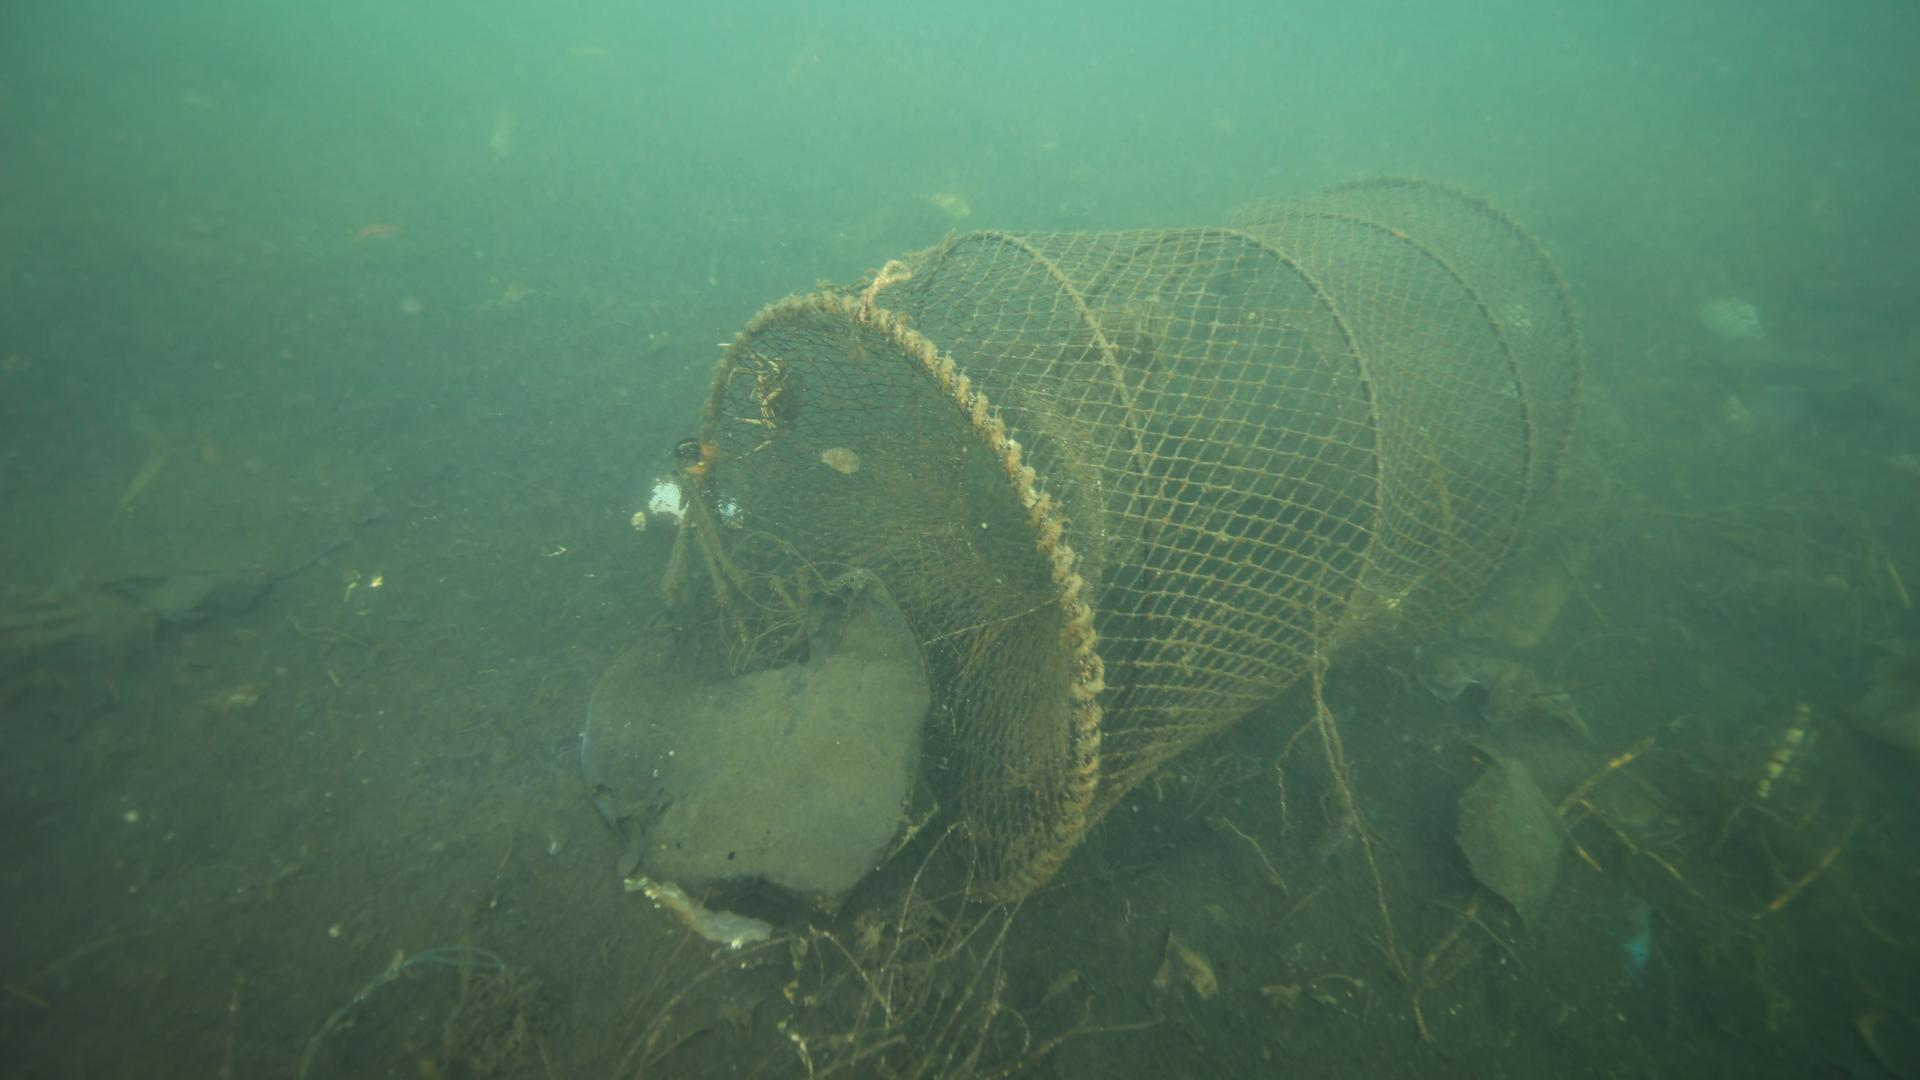spring fish trap: (688, 169, 1584, 913)
